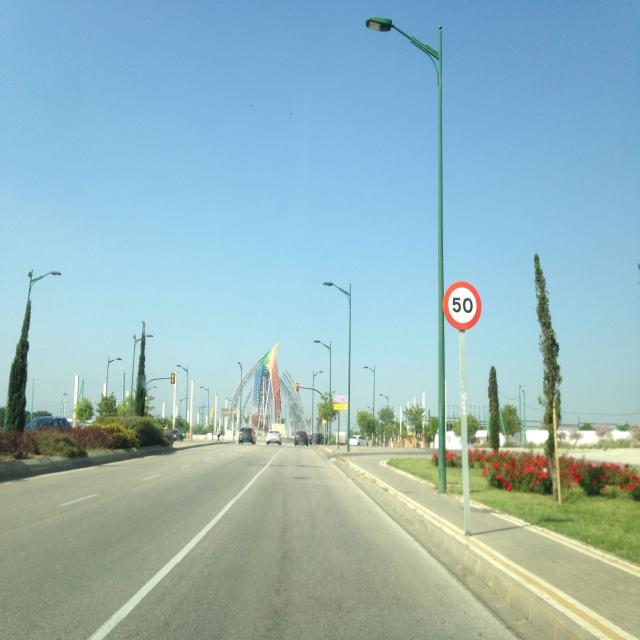car: (22, 415, 72, 433), (238, 426, 257, 445), (348, 434, 368, 447), (266, 430, 282, 446), (294, 430, 309, 446)
